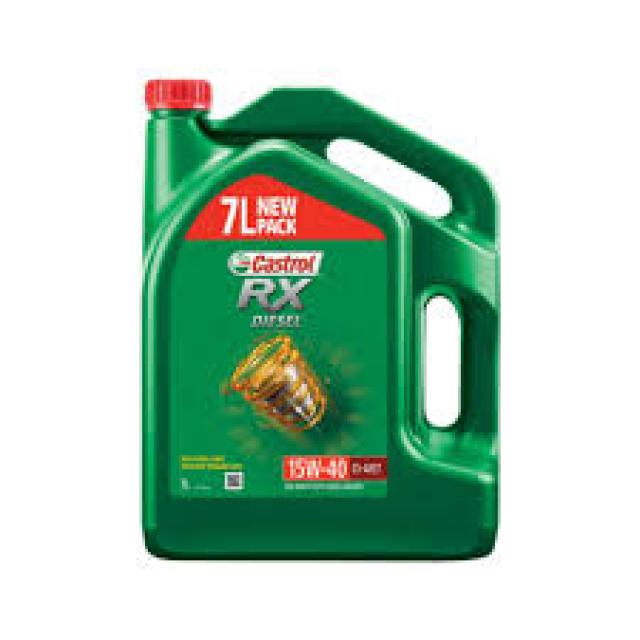motor_oil: (134, 64, 508, 566)
